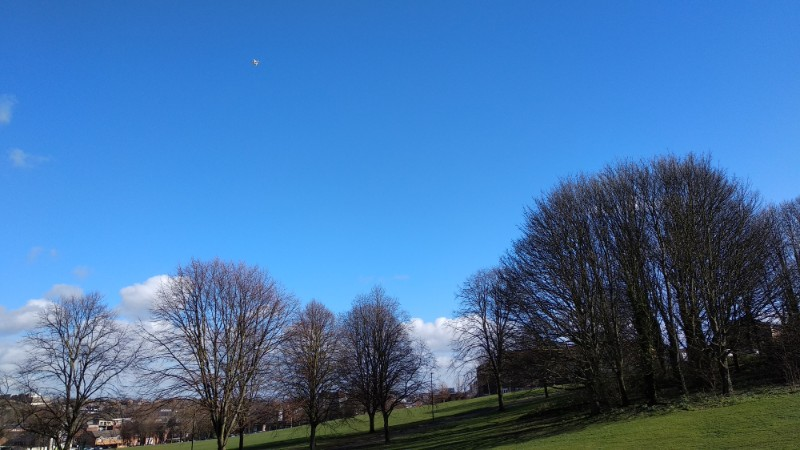drone: (249, 56, 263, 67)
